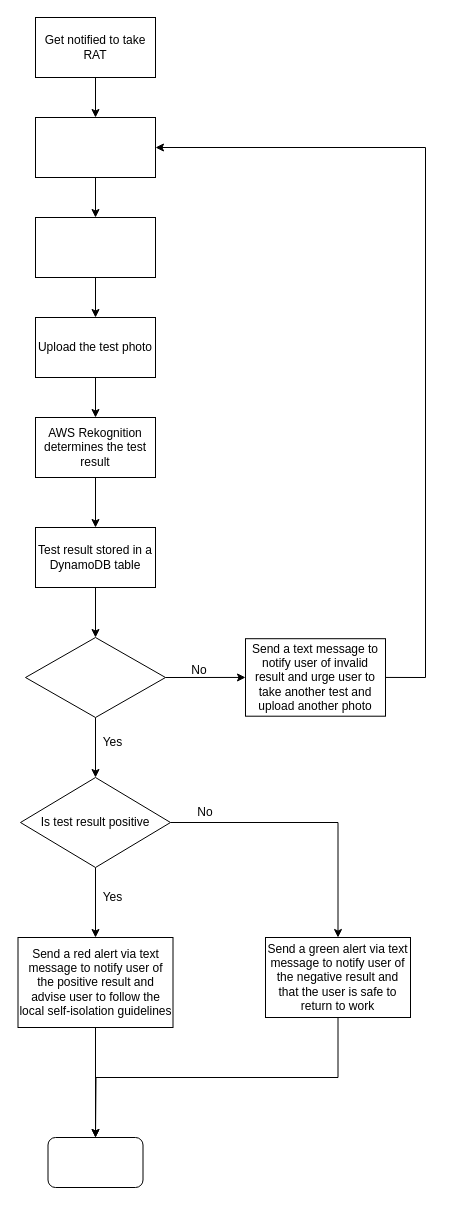
This 451x1205 diagram has some shape labels left out. Here are the shapes that lost their labels. From the top down, the centre of each, then its label:
point (95, 147): Take RAT
point (95, 247): Go to the website and sign in with unique employee ID
point (95, 677): Is the test result valid?
point (95, 1162): End
